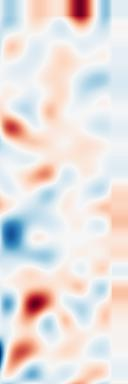filament: (14, 274, 62, 336)
